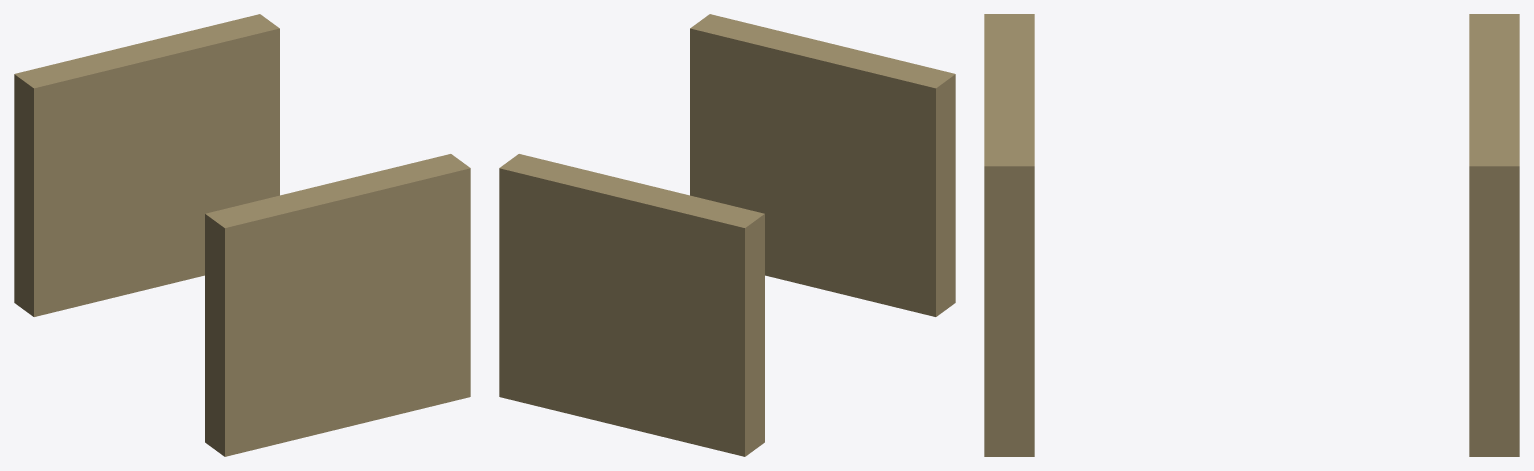
The model's file is stage walls.glb.
The picture shows the model from 3 angles, left to right: view 1: azimuth 30°, elevation 25°; view 2: azimuth 150°, elevation 25°; view 3: azimuth 270°, elevation 25°; orthographic projection. The views are drawn at different scales.
Visible parts, largest first — view 1: Cube; view 2: Cube; view 3: Cube.
Part boxes in pixels (x1=…): Cube: x1=14, y1=14, x2=470, y2=456; Cube: x1=499, y1=14, x2=955, y2=456; Cube: x1=984, y1=14, x2=1519, y2=456.
Bounding box in the file's own units: 14.37 × 12.77 × 21.32.
